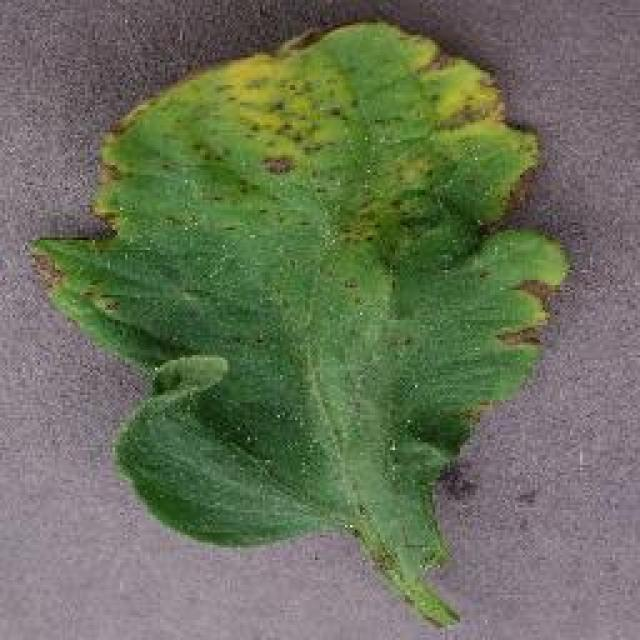bacterial spot: (31, 24, 578, 626)
